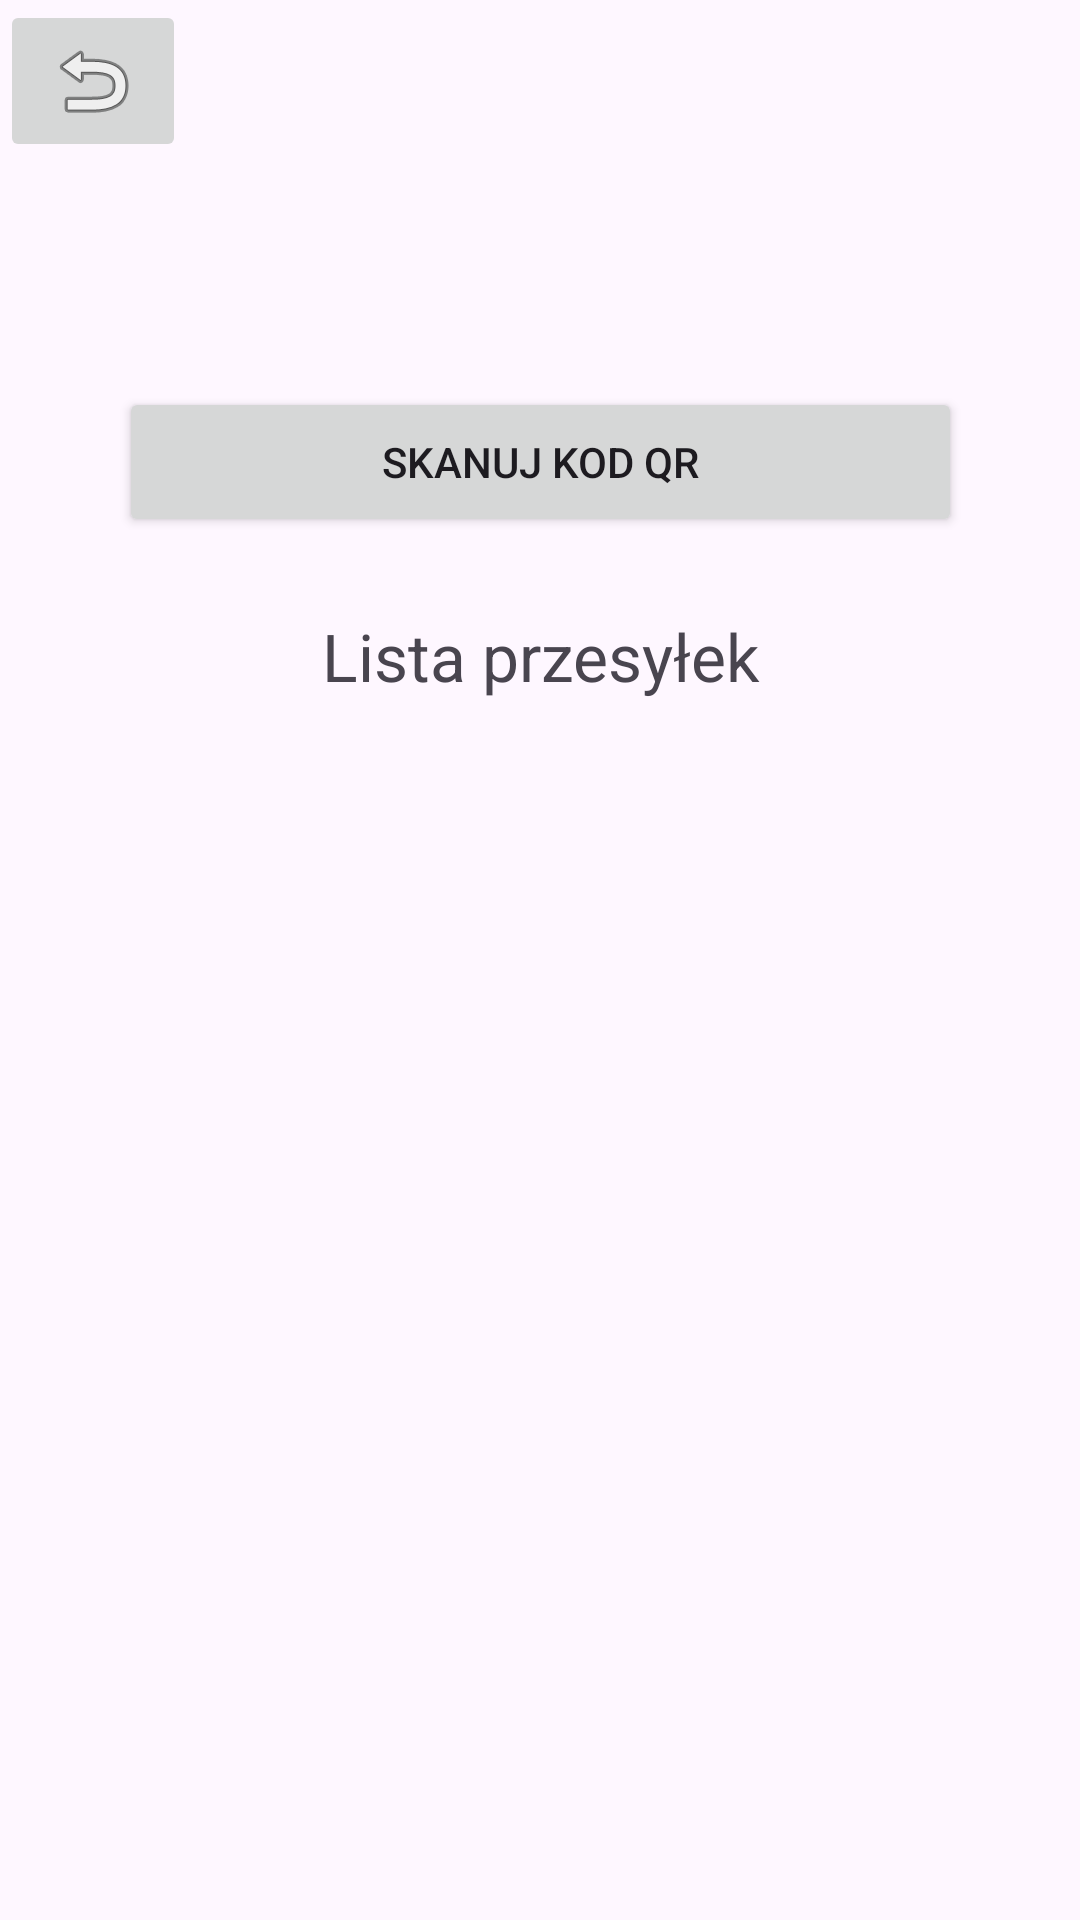

Icon click points for this 1080*1920 phone screenshot, format point (x, y):
revert: point (93, 81)
